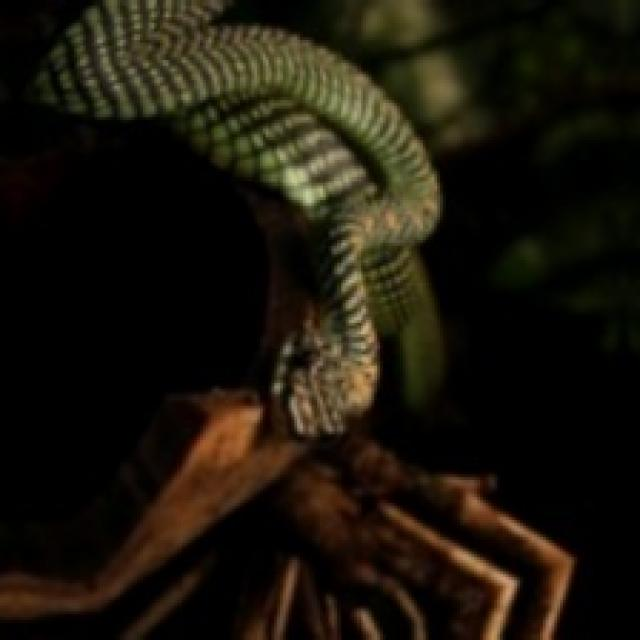paradise tree snake: (34, 0, 437, 434)
